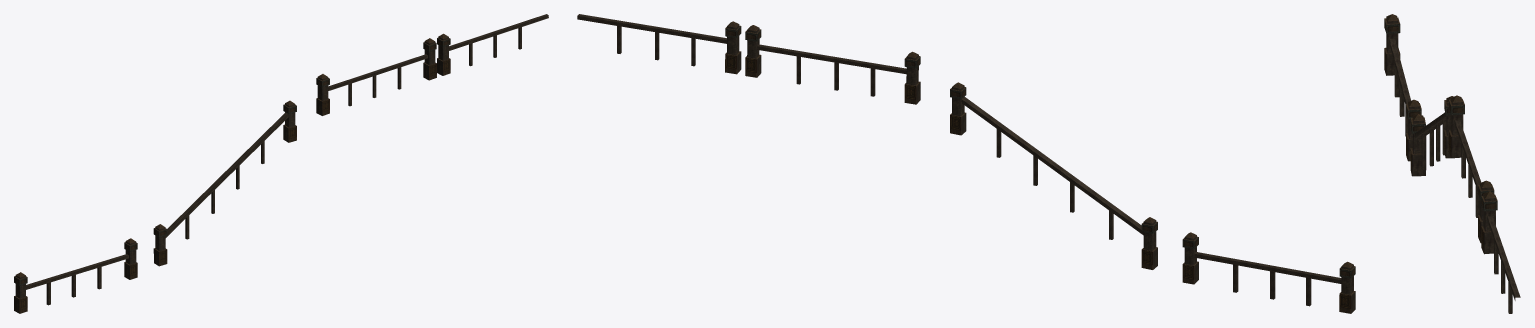
File: rail_crack01.glb
3 renders of one model, left to right at view 1: azimuth 30°, elevation 25°; view 2: azimuth 150°, elevation 25°; view 3: azimuth 270°, elevation 25°, orthographic. The views are drawn at different scales.
Parts seen in each view (by area): view 1: ship_rail_01; view 2: ship_rail_01; view 3: ship_rail_01.
Part boxes in pixels (x1=…): ship_rail_01: x1=14, y1=14, x2=548, y2=313; ship_rail_01: x1=577, y1=14, x2=1355, y2=313; ship_rail_01: x1=1384, y1=14, x2=1520, y2=313.
Size of the model in its own units: 43.02 by 10.33 by 5.92.
3 materials, 3 textured.
